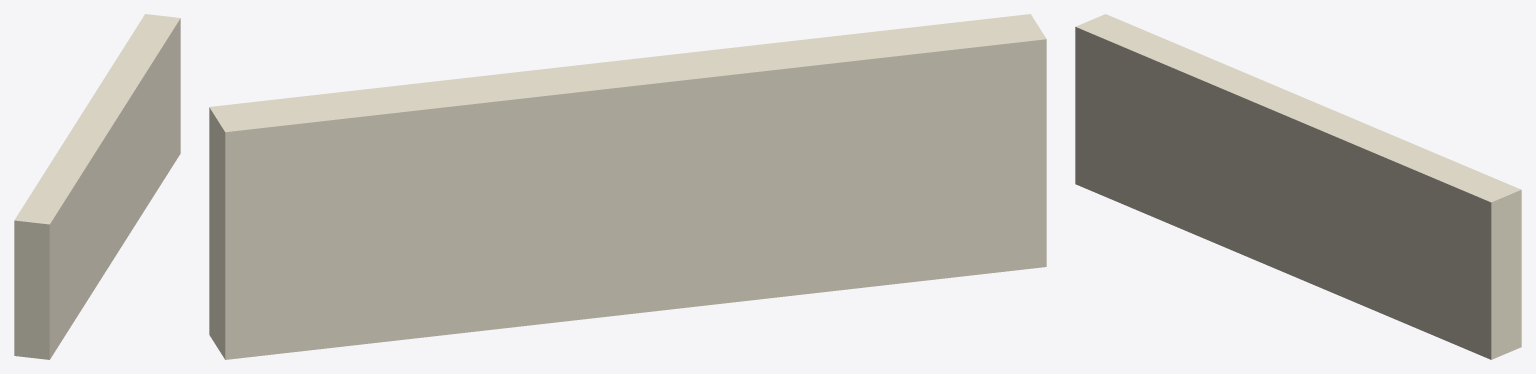
File: rail-45.glb
3 renders of one model, left to right at view 1: azimuth 30°, elevation 25°; view 2: azimuth 150°, elevation 25°; view 3: azimuth 270°, elevation 25°, orthographic. The views are drawn at different scales.
Size of the model in its own units: 1.67 by 0.65 by 1.67.
